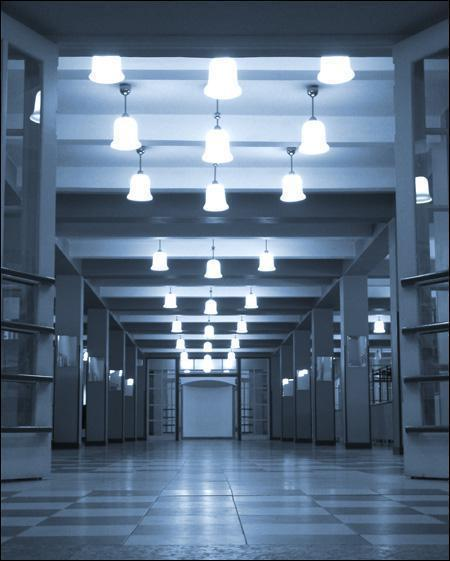Puerta: (399, 47, 448, 474), (4, 37, 50, 478), (149, 360, 182, 439), (243, 359, 273, 443)
